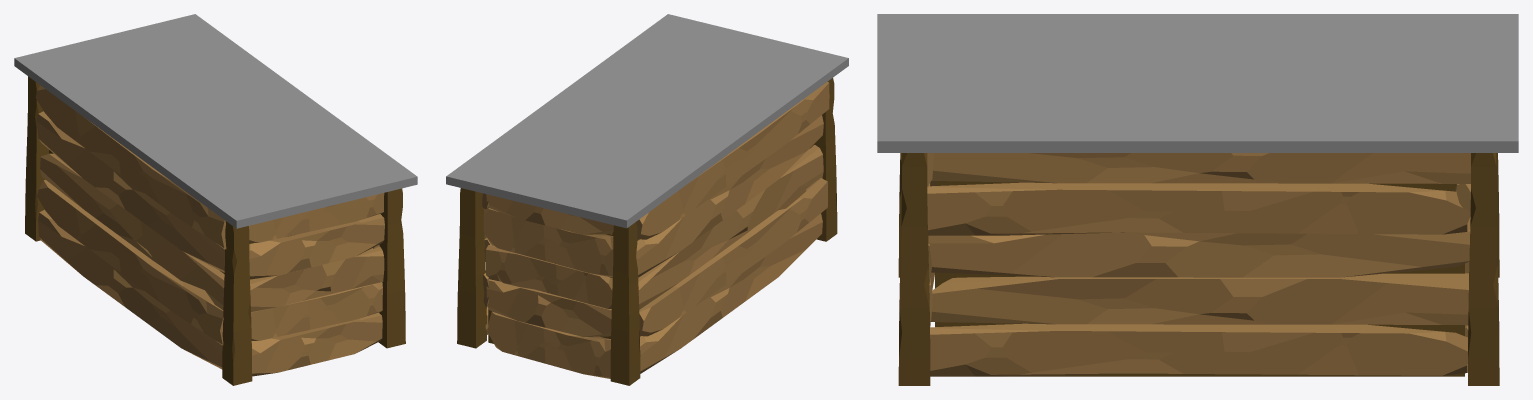
The model's file is Counter.fbx.
The picture shows the model from 3 angles, left to right: view 1: azimuth 30°, elevation 25°; view 2: azimuth 150°, elevation 25°; view 3: azimuth 270°, elevation 25°; orthographic projection. The views are drawn at different scales.
Visible parts, largest first — view 1: Cubo.017; view 2: Cubo.017; view 3: Cubo.017.
Part boxes in pixels (x1,y1,x2,y2): Cubo.017: (14, 14, 417, 385); Cubo.017: (446, 14, 848, 385); Cubo.017: (877, 14, 1518, 385).
Bounding box in the file's own units: 238 × 225 × 506.
